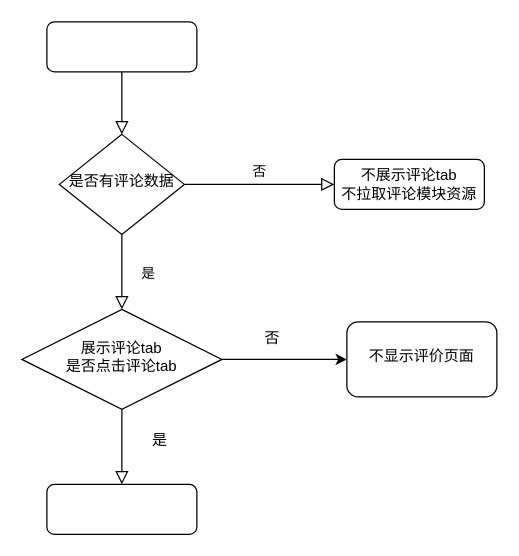
Some shapes in this 519 by 556 pixel diagram are drawn without their labels. Here are the shapes that lost their labels. From the top down, the box of each, then its label:
(46, 21, 197, 72): 拉取商详数据
(46, 483, 197, 534): 显示评价页面 拉取评论模块资源
